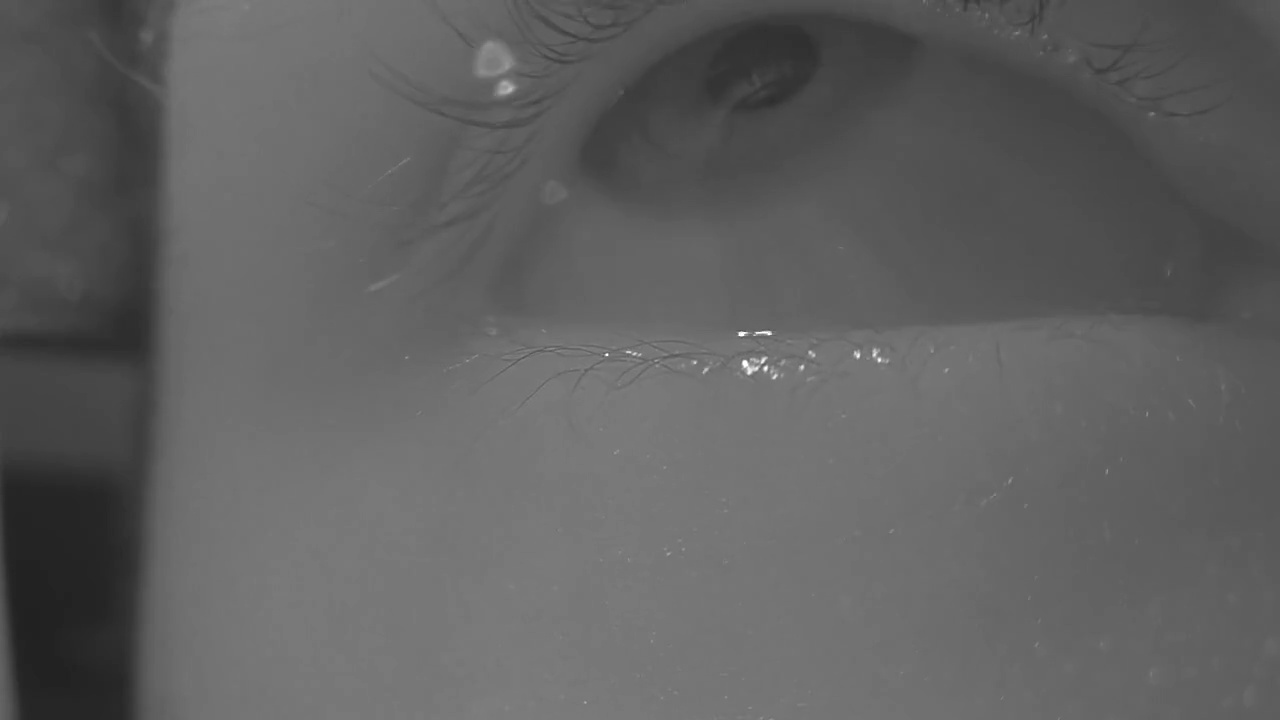pupil: (705, 23, 821, 110)
